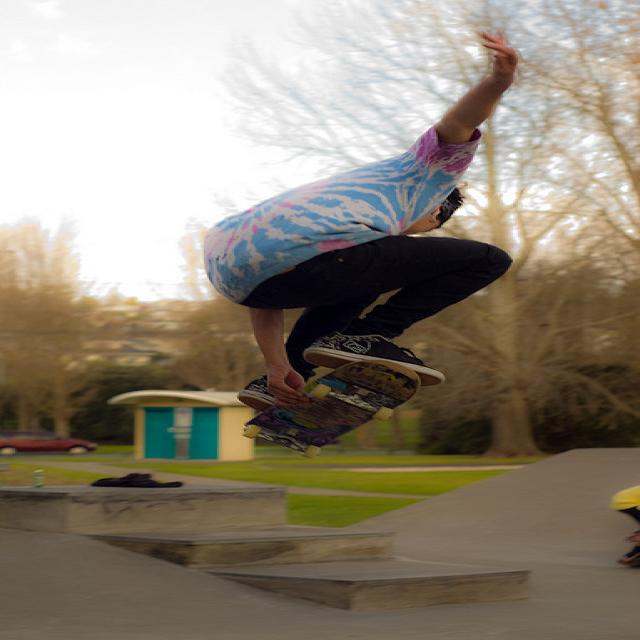Vehicle: (0, 431, 98, 458)
